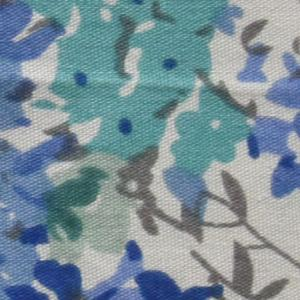Wrinkle: (1, 63, 300, 113)
